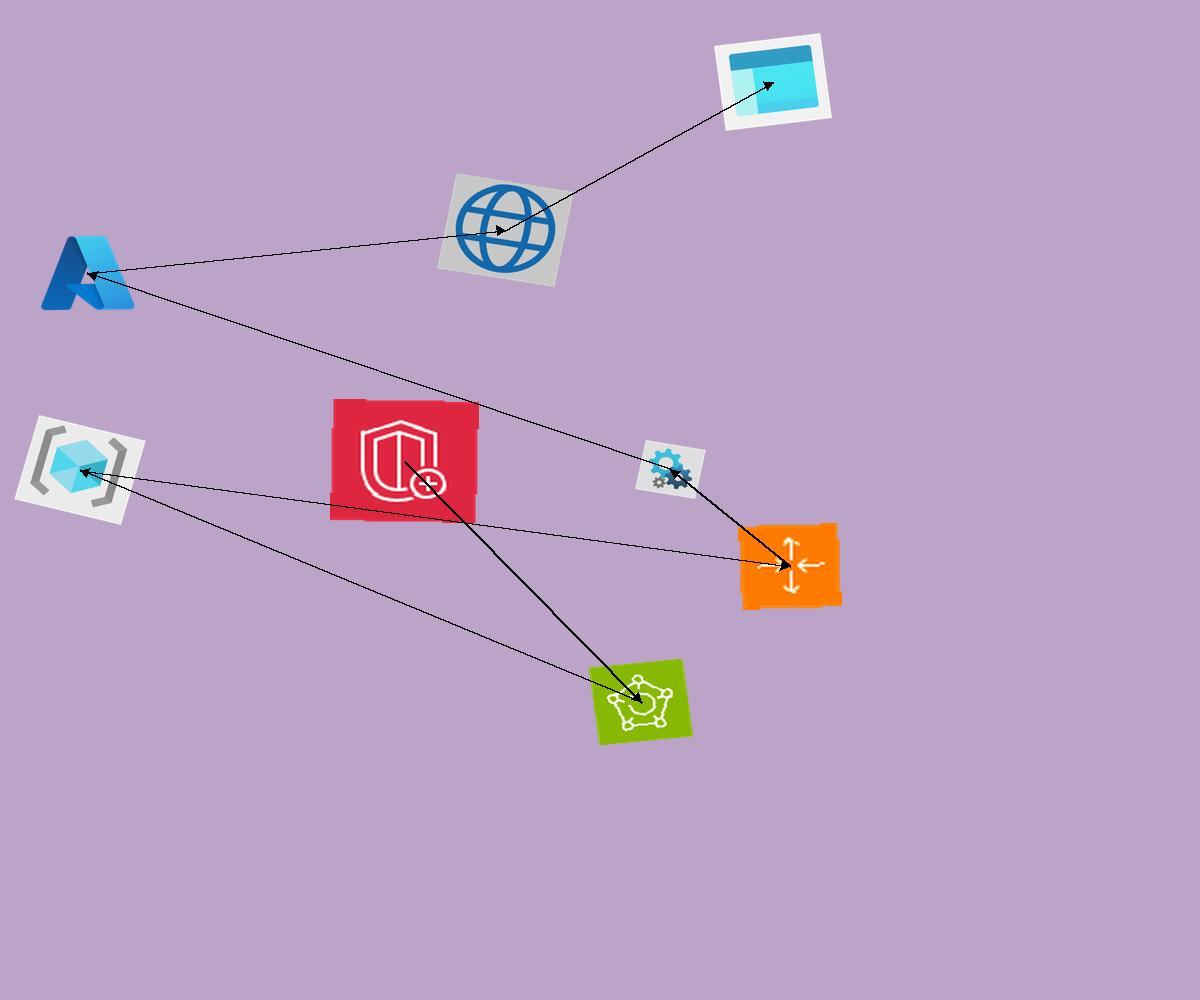AWS-Backup: (588, 658, 694, 746)
AWS-Scaling-group: (738, 523, 842, 610)
AWS-Shield: (330, 399, 479, 523)
Azure_api: (635, 440, 706, 499)
Azure_http: (437, 173, 574, 287)
Azure_management-portal: (714, 33, 832, 131)
Azure_resource_group: (14, 415, 146, 525)
Azure_services: (36, 230, 139, 316)
